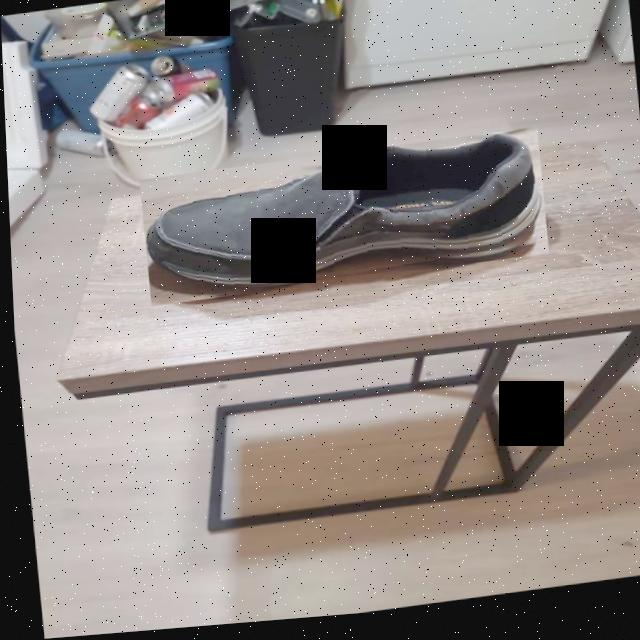shoe: (137, 135, 547, 309)
